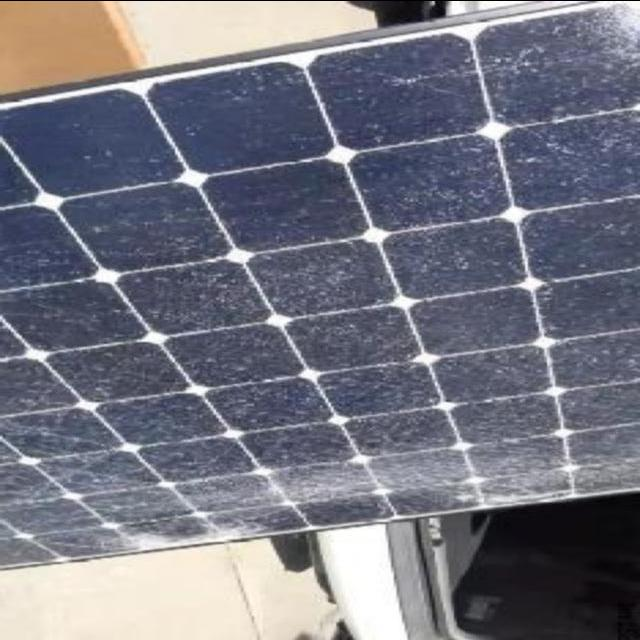cracked: (0, 6, 638, 566)
